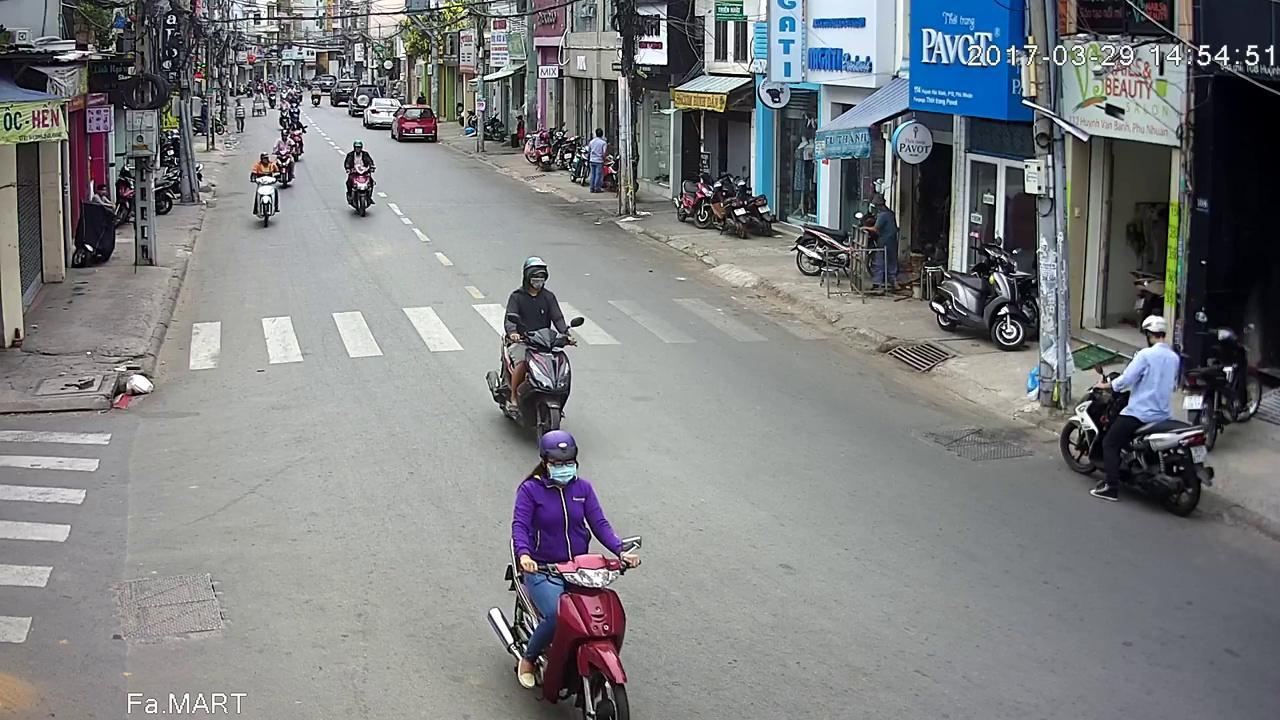xe hoi: (393, 105, 437, 147)
xe may: (479, 396, 635, 720), (1058, 331, 1216, 531), (485, 251, 583, 445), (341, 141, 379, 218), (251, 151, 281, 229), (274, 139, 298, 192)
